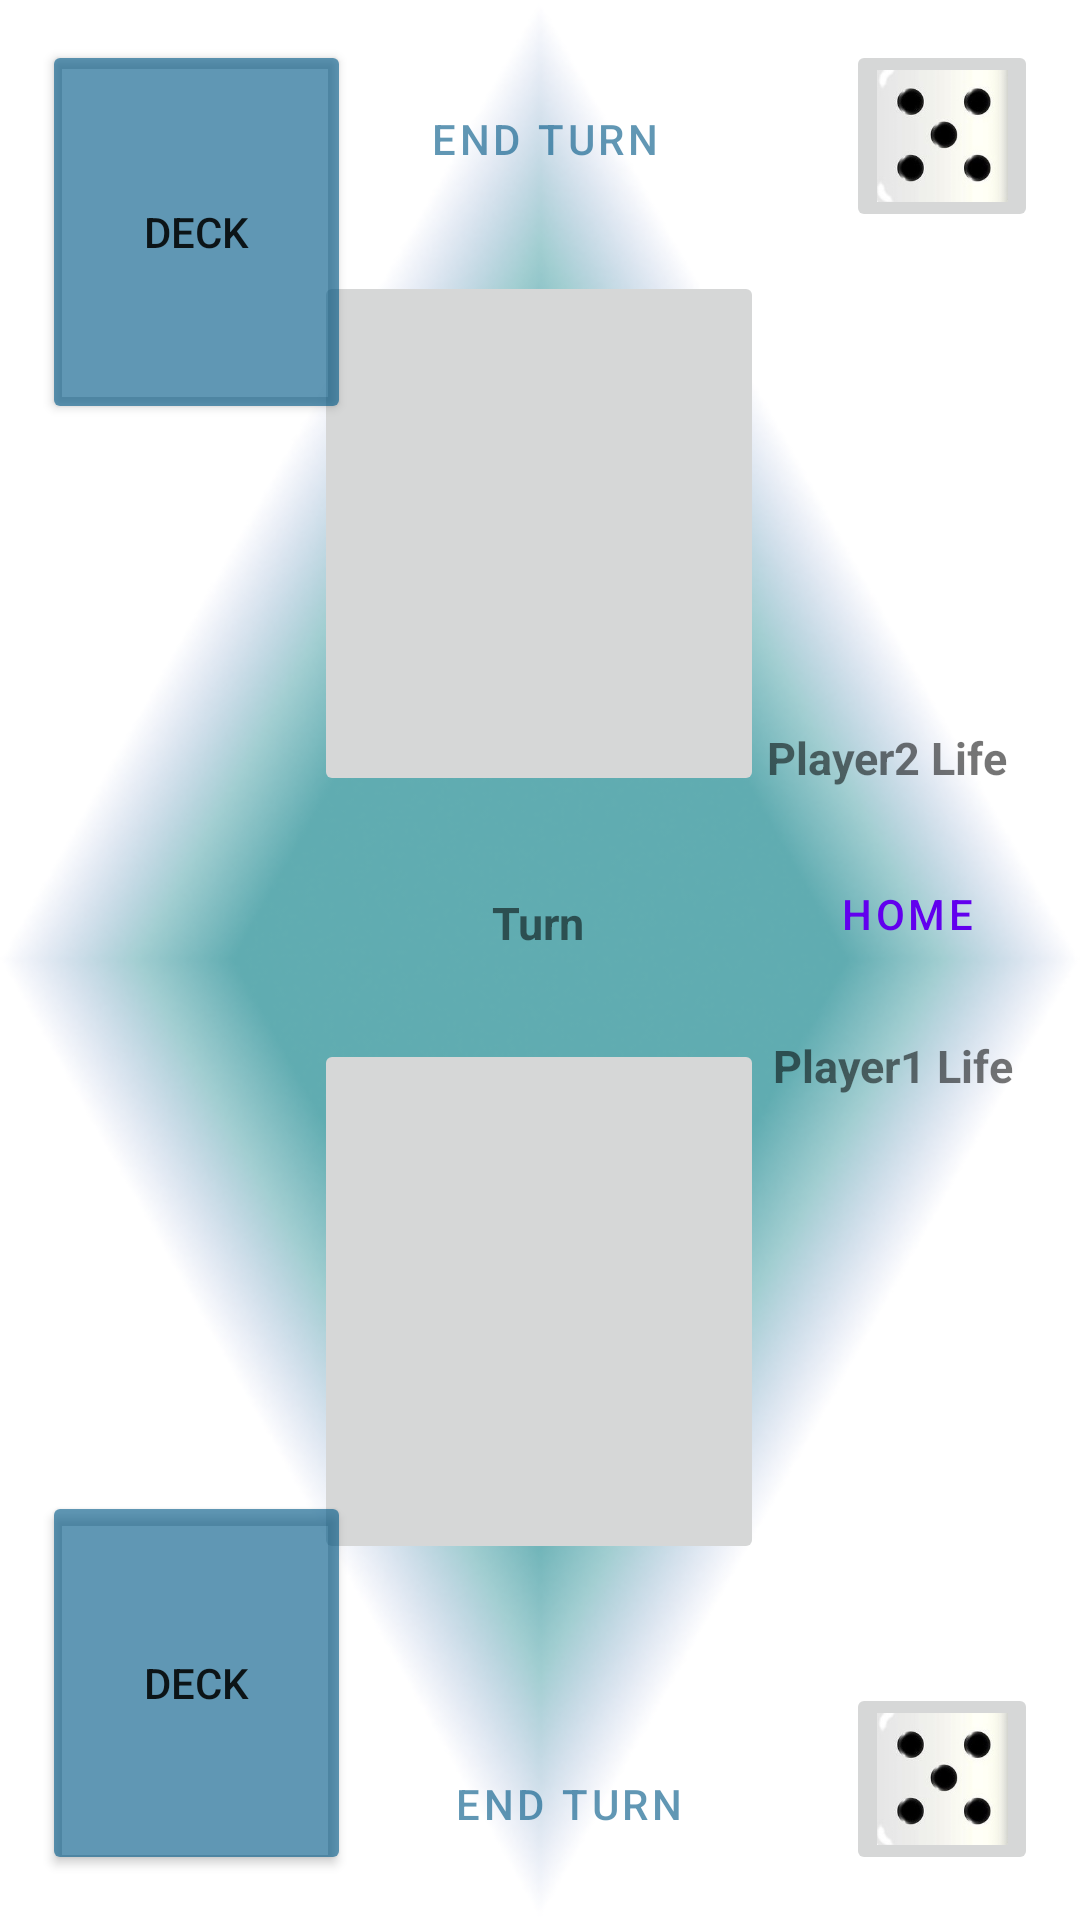

Named icons in this screenshot (1080px×1920px) and their bounding boxes, (x1, y1, x2, y2):
dado: (858, 58, 1026, 214), (858, 1701, 1026, 1857)
